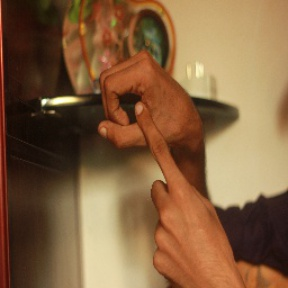Q: (93, 49, 203, 215)
